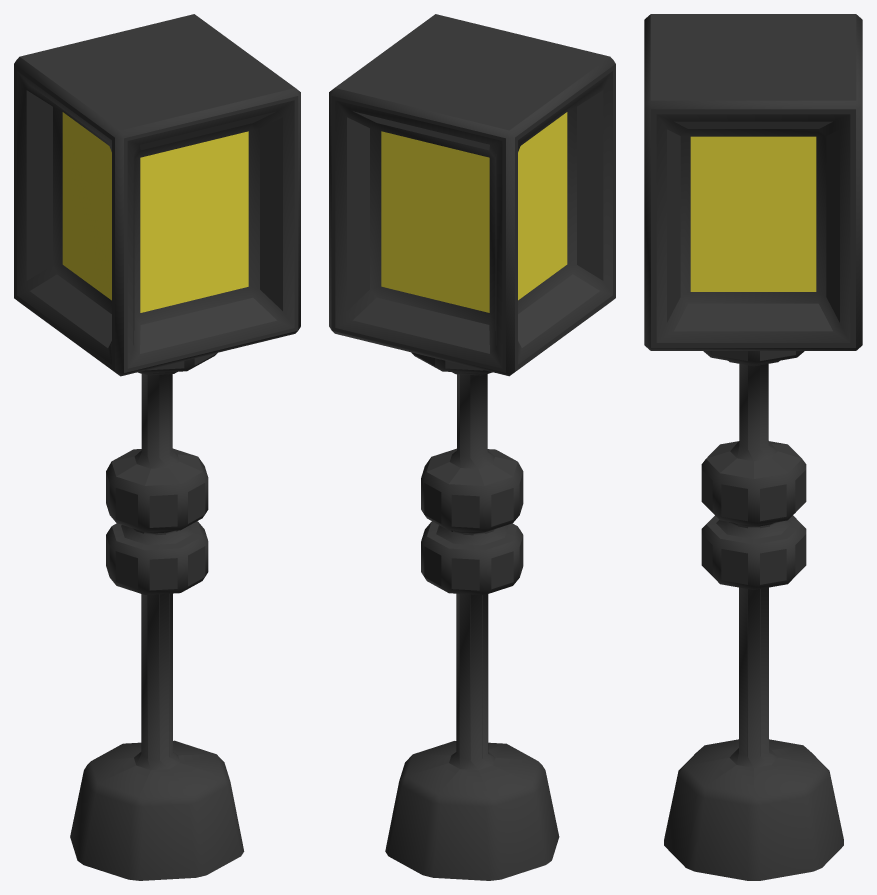
The model's file is Lamp.fbx.
3 renders of one model, left to right at view 1: azimuth 30°, elevation 25°; view 2: azimuth 150°, elevation 25°; view 3: azimuth 270°, elevation 25°, orthographic.
Parts seen in each view (by area): view 1: Cylinder.001; view 2: Cylinder.001; view 3: Cylinder.001.
Boxes of the visible parts, x1=… form: Cylinder.001: x1=14, y1=14, x2=300, y2=880; Cylinder.001: x1=329, y1=14, x2=615, y2=880; Cylinder.001: x1=644, y1=14, x2=862, y2=880.
Size of the model in its own units: 1.16 by 4.58 by 1.16.
